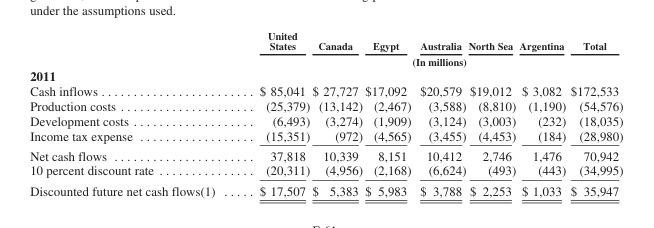table: (29, 29, 622, 197)
table column: (29, 29, 236, 197), (236, 29, 310, 197), (567, 29, 622, 197), (310, 29, 363, 197), (414, 29, 466, 197), (363, 29, 414, 197), (516, 29, 567, 197), (466, 29, 516, 197)
table column header: (29, 29, 622, 67)
table projected row header: (29, 67, 622, 83)
table row: (29, 29, 622, 53), (29, 127, 622, 145), (29, 162, 622, 180), (29, 145, 622, 162), (29, 180, 622, 197), (29, 67, 622, 83), (29, 83, 622, 98), (29, 112, 622, 127), (29, 53, 622, 67), (29, 98, 622, 112)
table spanning cell: (236, 53, 622, 67)
